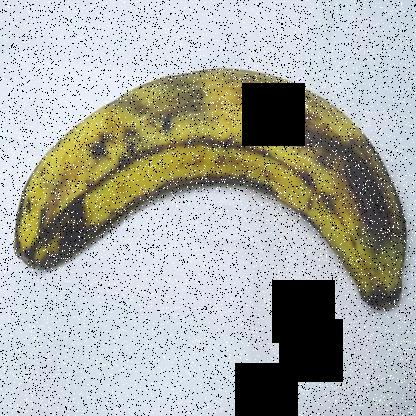overripe: (6, 55, 415, 325)
